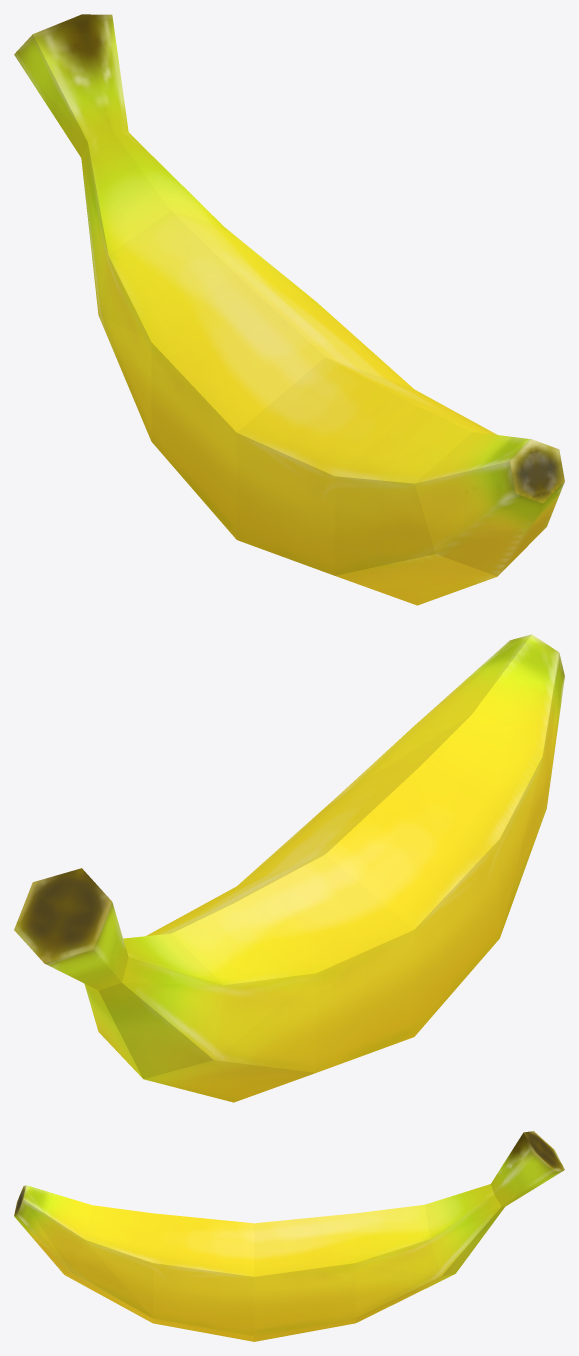
Rendered from banana.gltf.
3 renders of one model, top to bottom at view 1: azimuth 30°, elevation 25°; view 2: azimuth 150°, elevation 25°; view 3: azimuth 270°, elevation 25°, orthographic. The views are drawn at different scales.
Visible parts, largest first — view 1: fruis_and_vegetables.040; view 2: fruis_and_vegetables.040; view 3: fruis_and_vegetables.040.
Boxes of the visible parts, <box> form: fruis_and_vegetables.040: <box>14,14,564,605</box>; fruis_and_vegetables.040: <box>14,634,564,1102</box>; fruis_and_vegetables.040: <box>14,1131,564,1341</box>.
Size of the model in its own units: 0.0766 by 0.1563 by 0.3726.
Materials: 1 (1 with a texture image).
